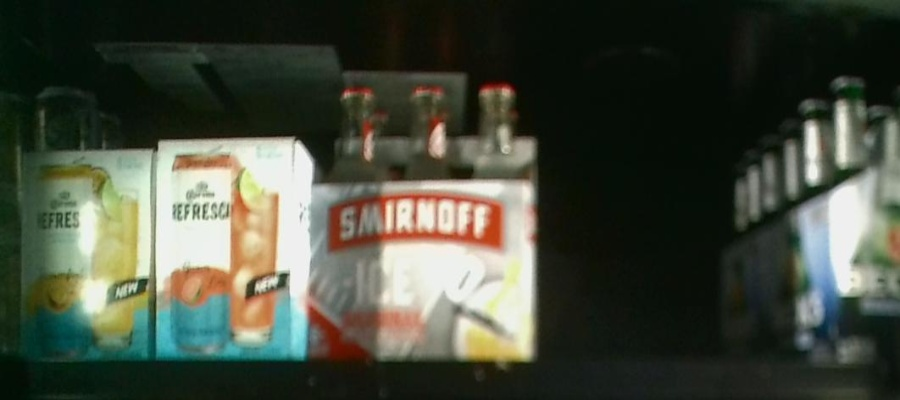bottle: (315, 82, 540, 361), (157, 139, 307, 357), (19, 151, 152, 363)
